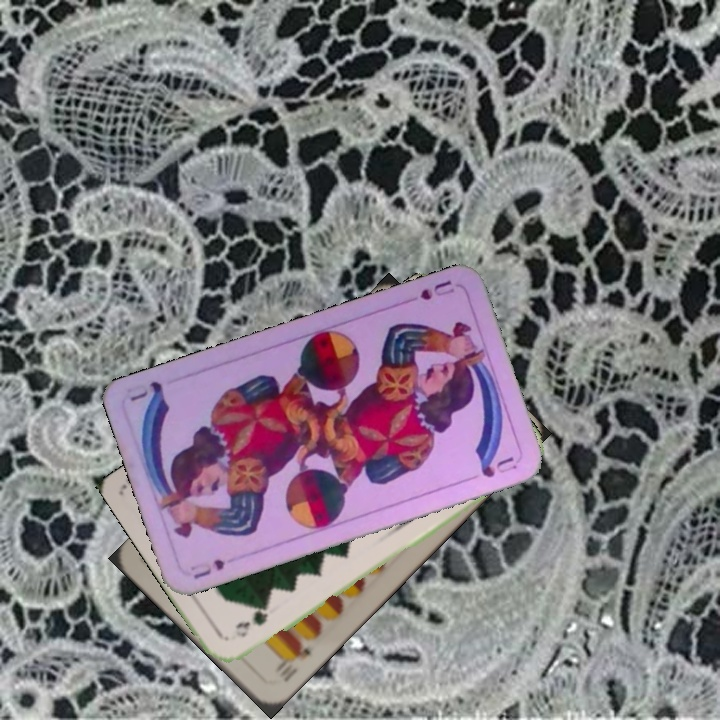E10: (279, 639, 313, 685)
G9: (230, 602, 271, 640)
SU: (401, 276, 457, 307), (189, 555, 228, 582)
